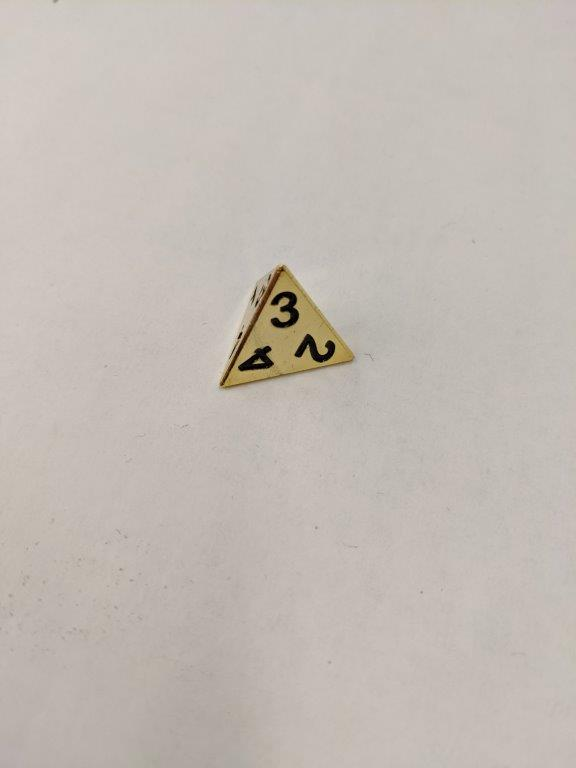d4-3: (217, 262, 361, 397)
